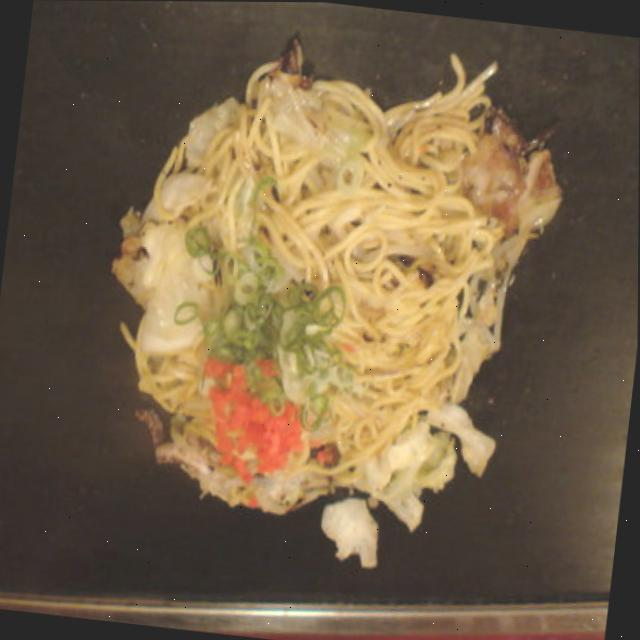面条主食: (83, 43, 535, 556)
